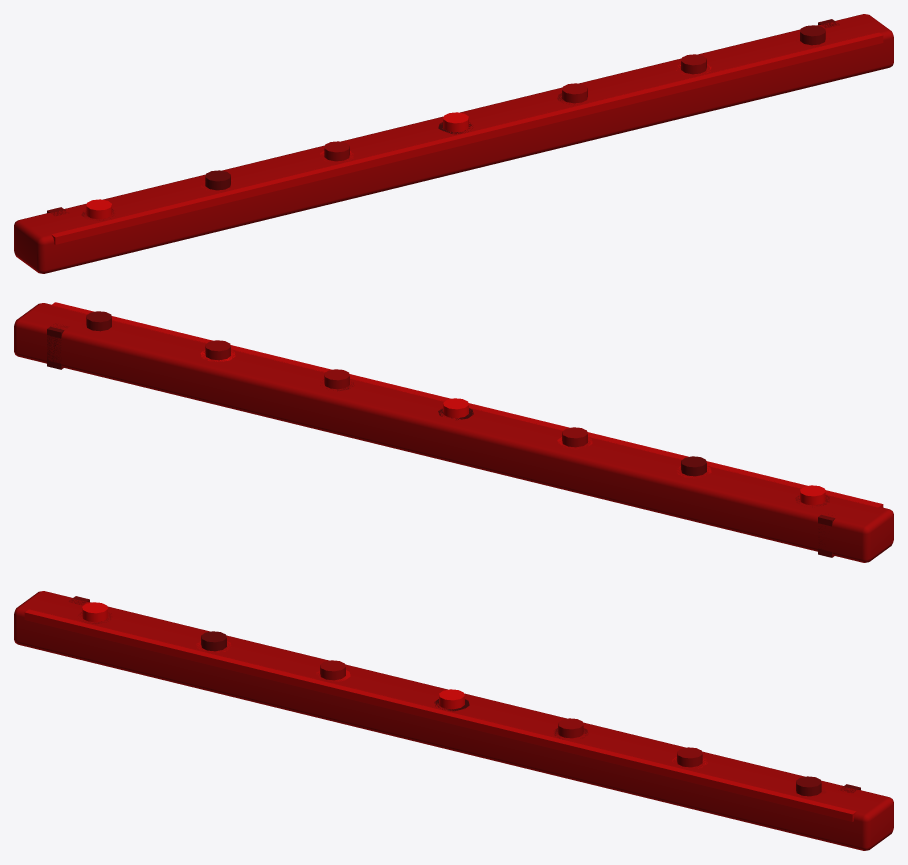
Rendered from holo_emitter.glb.
The picture shows the model from 3 angles, top to bottom: view 1: azimuth 30°, elevation 25°; view 2: azimuth 150°, elevation 25°; view 3: azimuth 330°, elevation 25°; orthographic projection.
Parts seen in each view (by area): view 1: holo_emitter; view 2: holo_emitter; view 3: holo_emitter.
Boxes of the visible parts, <box> form: holo_emitter: <box>14,14,893,273</box>; holo_emitter: <box>14,302,893,562</box>; holo_emitter: <box>14,591,893,850</box>.
Bounding box in the file's own units: 6 × 0.31 × 0.36.
